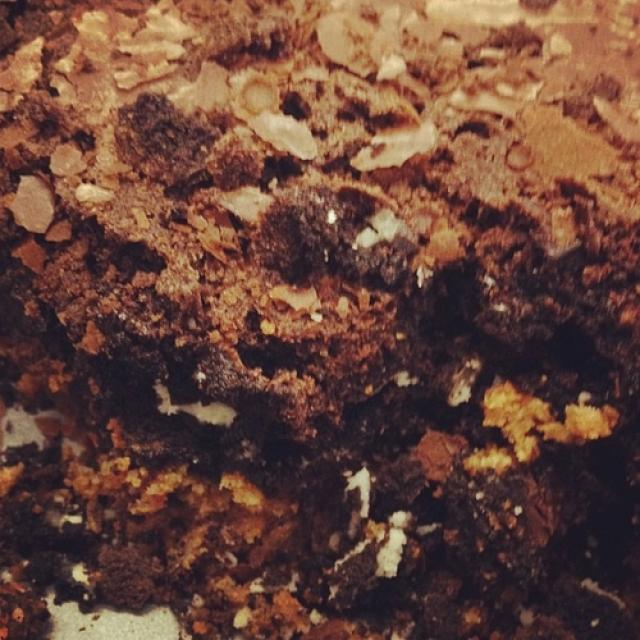蛋糕甜品: (13, 13, 626, 628)
